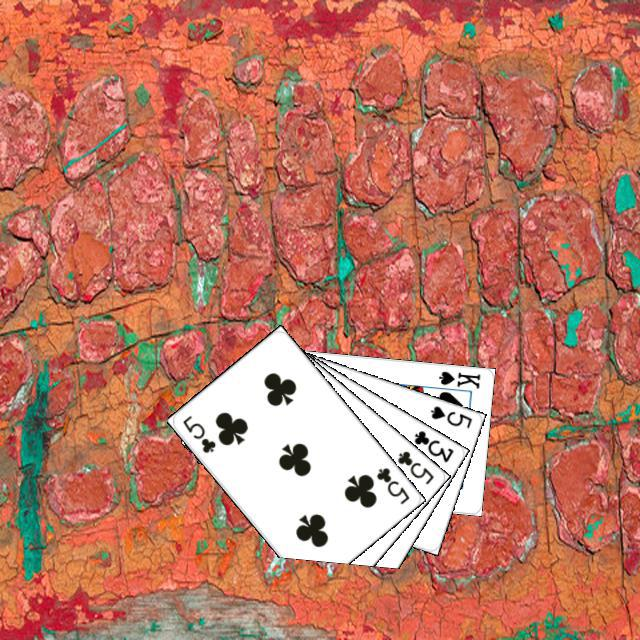3c: (409, 426, 455, 464)
5c: (177, 410, 218, 455), (392, 446, 436, 486), (371, 462, 411, 506)
5s: (425, 401, 474, 430)
Ks: (434, 366, 482, 390)
